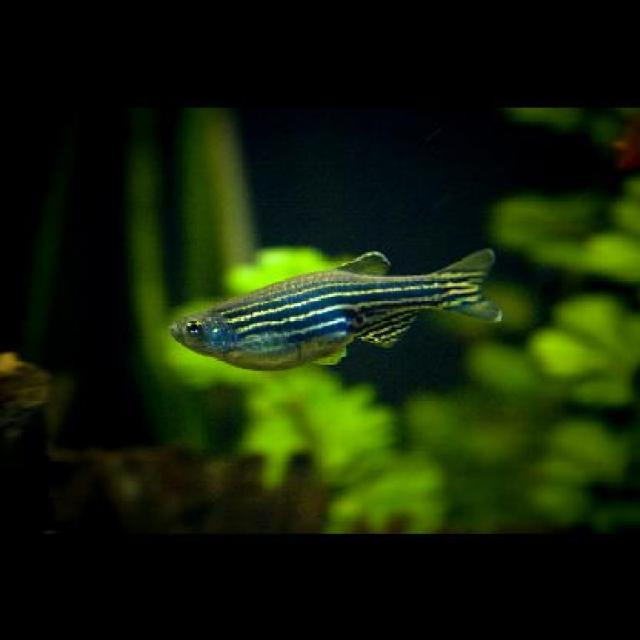ZebraFish: (172, 248, 505, 364)
